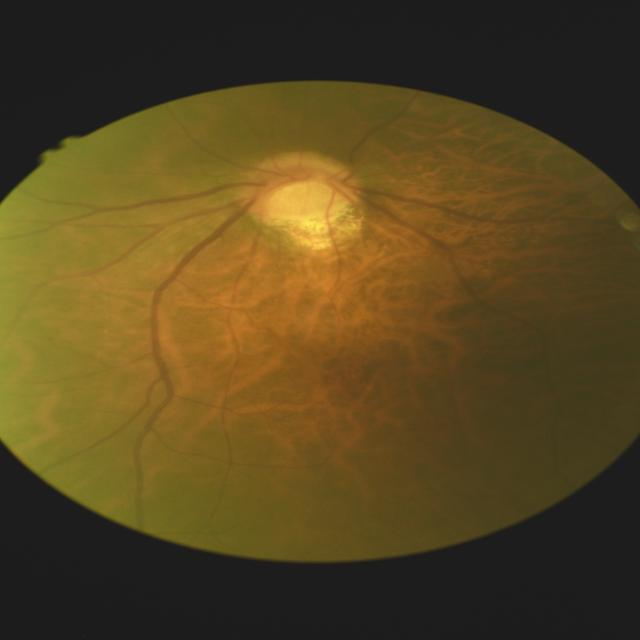cup: (260, 168, 342, 212)
disk: (241, 152, 360, 222)
